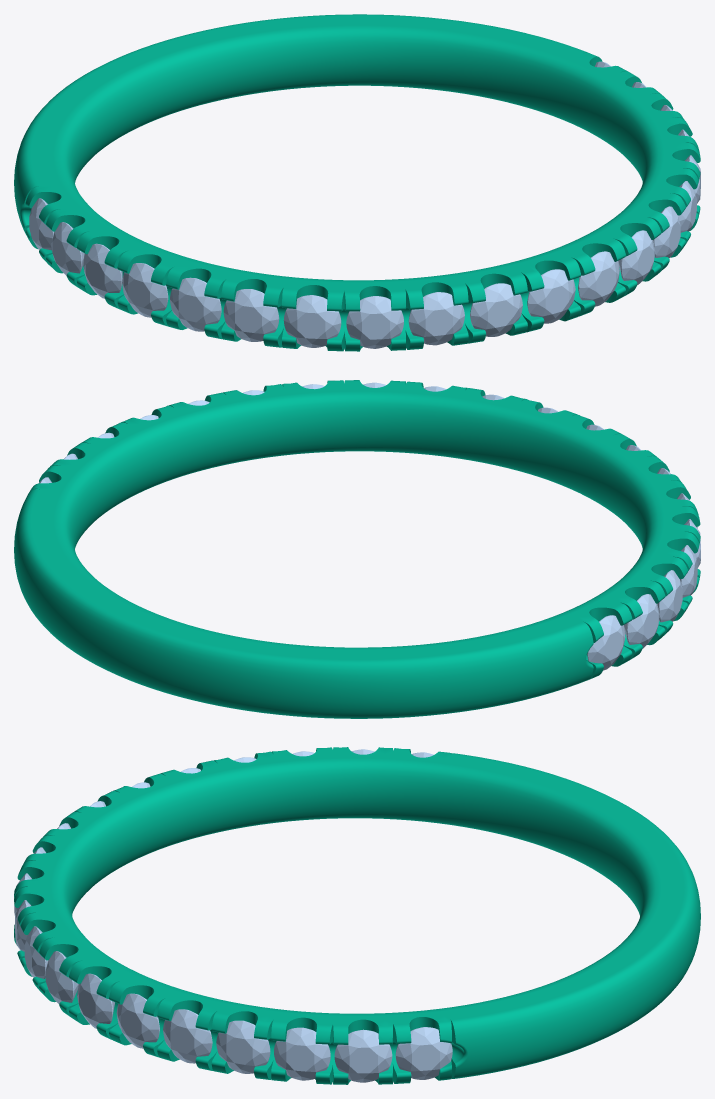
The picture shows the model from 3 angles, top to bottom: view 1: azimuth 30°, elevation 25°; view 2: azimuth 150°, elevation 25°; view 3: azimuth 270°, elevation 25°; orthographic projection.
Visible parts, largest first — view 1: 1.3dm, GemOnCrv (×15); view 2: 1.3dm, GemOnCrv (×4); view 3: 1.3dm, GemOnCrv (×9).
Boxes of the visible parts, x1=… form: 1.3dm: x1=14, y1=14, x2=700, y2=351; GemOnCrv (×15): x1=29, y1=181, x2=696, y2=348; 1.3dm: x1=14, y1=380, x2=700, y2=718; GemOnCrv (×4): x1=587, y1=545, x2=697, y2=670; 1.3dm: x1=14, y1=747, x2=700, y2=1084; GemOnCrv (×9): x1=24, y1=926, x2=452, y2=1082.
Size of the model in its own units: 2.82 by 0.2664 by 2.83.
